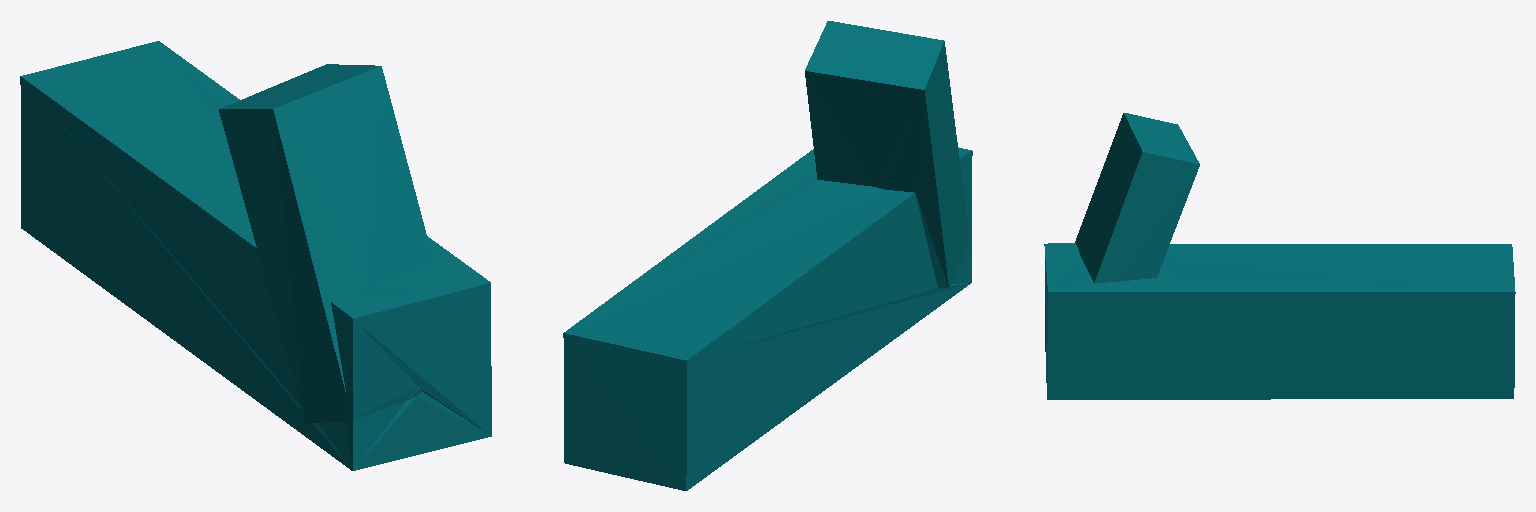
URDF robot description (blob159):

<robot name="blob159">
  <link name="random_obj_159">
    <contact>
      <lateral_friction value="1.0"/>
      <rolling_friction value="0.0"/>
      <inertia_scaling value="3.0"/>
      <contact_cfm value="0.0"/>
      <contact_erp value="1.0"/>
    </contact>
    <inertial>
      <origin rpy="0 0 0" xyz="0 0 0"/>
      <mass value="0.0759"/>
      <inertia ixx="1" ixy="0" ixz="0" iyy="1" iyz="0" izz="0"/>
    </inertial>
    <visual>
      <origin rpy="0 0 0" xyz="0 0 0"/>
      <geometry>
        <mesh filename="159.obj" scale="0.0074 0.0074 0.0074"/>
      </geometry>
      <material name="blockmat">
        <color rgba="0.07 0.50 0.53 1"/>
      </material>
    </visual>
    <collision>
      <origin rpy="0 0 0" xyz="0 0 0"/>
      <geometry>
        <mesh filename="159_coll.obj" scale="0.0074 0.0074 0.0074"/>
      </geometry>
    </collision>
  </link>
</robot>

--- Facts derived from the render (not from the file) ---
3 views of the same robot in one strip: view 1: azimuth 30°, elevation 25°; view 2: azimuth 150°, elevation 25°; view 3: azimuth 270°, elevation 25° (orthographic).
Model blob159 with 1 links and 0 joints (none), rooted at random_obj_159, posed all joints at 0.
Visible links, largest first — view 1: random_obj_159; view 2: random_obj_159; view 3: random_obj_159.
Boxes of the visible links, bbox=[...] form: random_obj_159: bbox=[20, 41, 491, 470]; random_obj_159: bbox=[563, 21, 972, 490]; random_obj_159: bbox=[1044, 113, 1515, 399].
Size in the robot's own frame: 0.0279 by 0.0896 by 0.049 metres.
1 mesh visuals loaded from 1 distinct referenced files (1 OBJ).
